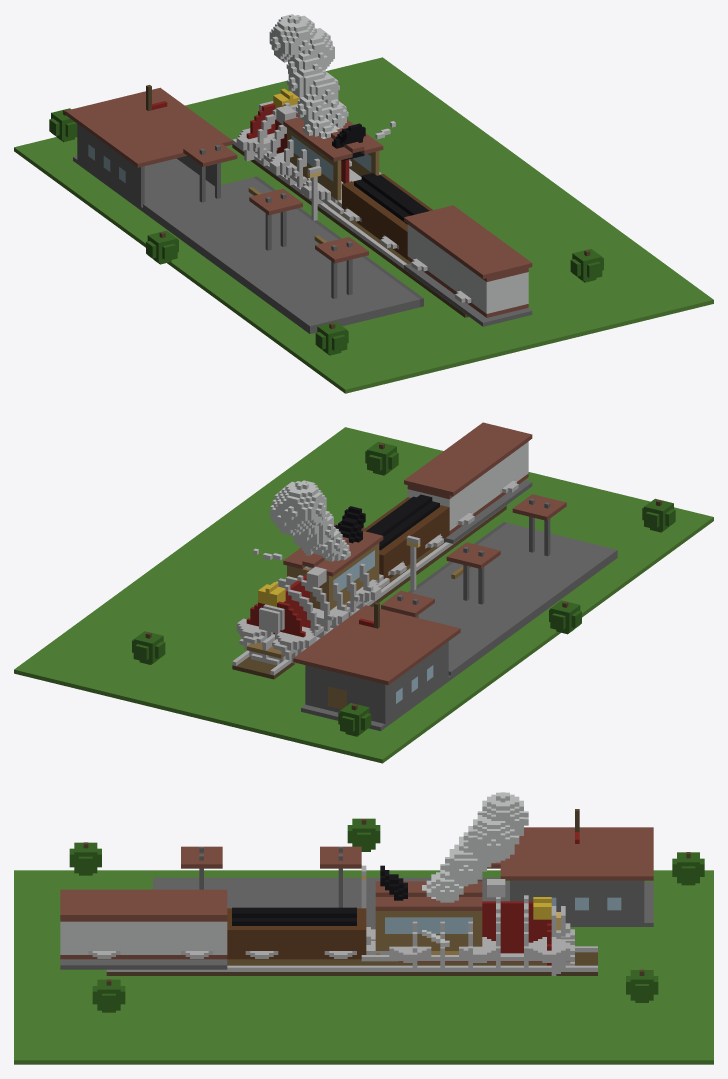
3 views of the same model, one above another, from view 1: azimuth 30°, elevation 25°; view 2: azimuth 150°, elevation 25°; view 3: azimuth 270°, elevation 25° (orthographic). The views are drawn at different scales.
Size of the model in its own units: 105 by 41 by 151.
